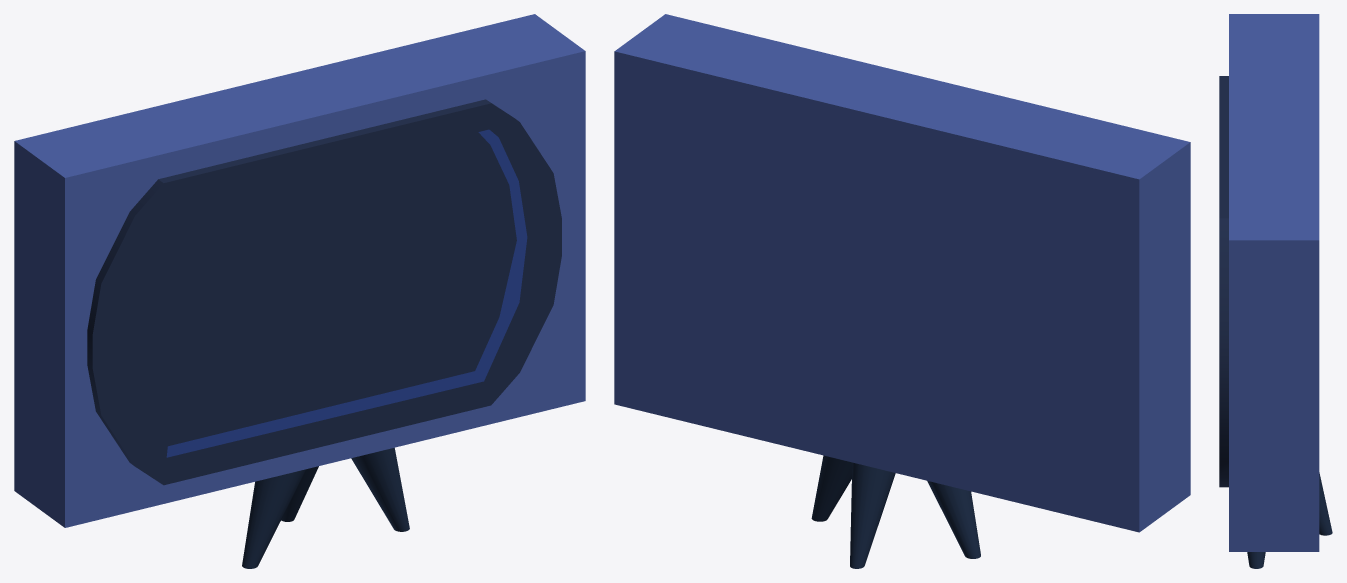
The model's file is tele.obj.
3 renders of one model, left to right at view 1: azimuth 30°, elevation 25°; view 2: azimuth 150°, elevation 25°; view 3: azimuth 270°, elevation 25°, orthographic. The views are drawn at different scales.
Parts seen in each view (by area): view 1: pasted__pasted__pCone6; view 2: pasted__pasted__pCone6; view 3: pasted__pasted__pCone6.
Boxes of the visible parts, box(x1,y1,x2,y2) form: pasted__pasted__pCone6: box(14, 14, 585, 568); pasted__pasted__pCone6: box(614, 14, 1190, 568); pasted__pasted__pCone6: box(1219, 14, 1332, 568).
Bounding box in the file's own units: 6.84 × 5.62 × 1.45.
